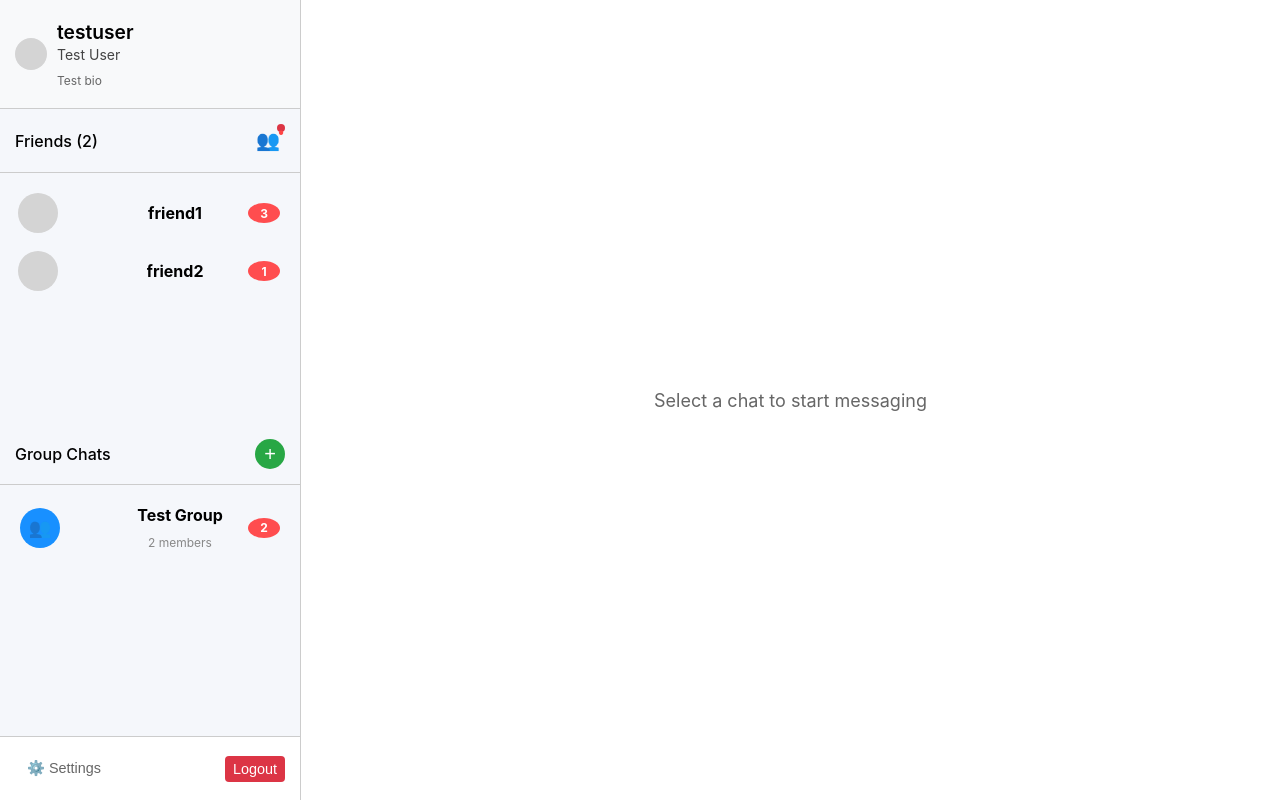
it: Dashboard Component › selects a friend and loads messages
Click the text "friend1". click: (175, 213)
box: [148,203,202,223]
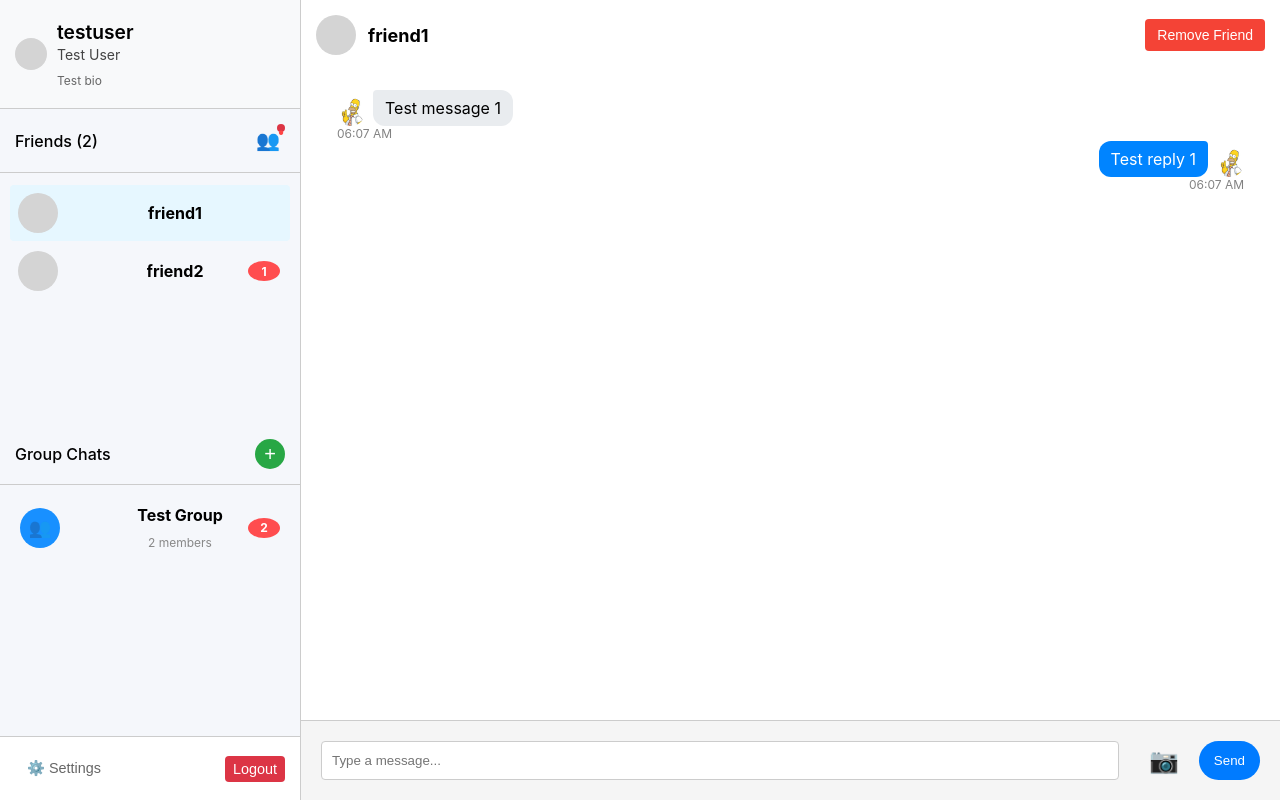
Expected: the text "Test message 1" is shown, [385,98,501,118]
Expected: the text "Test reply 1" is shown, [1111,149,1196,169]
